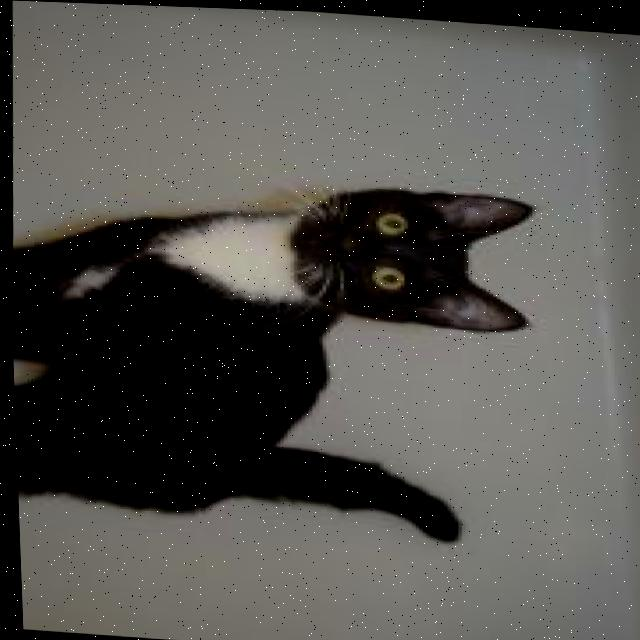Tuxedo: (5, 155, 542, 546)
